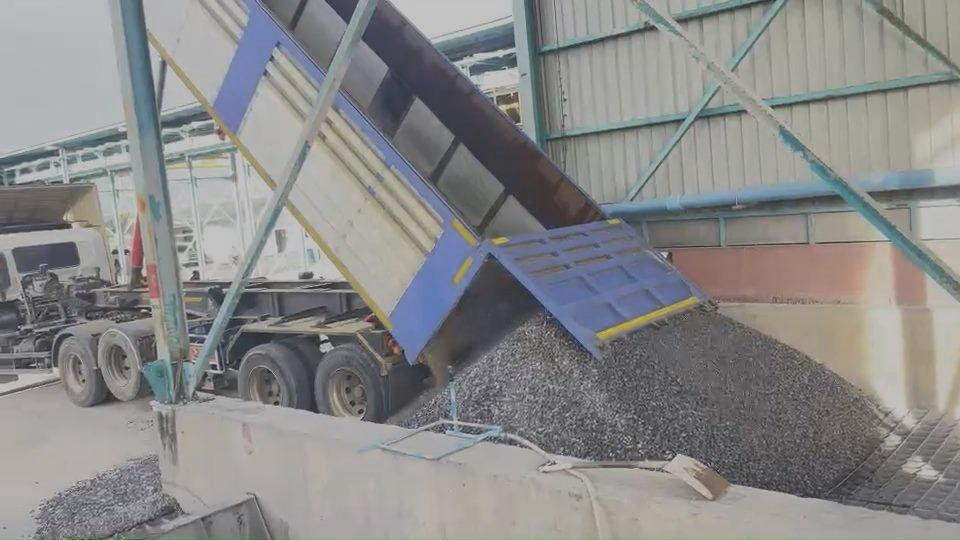gravel: (457, 311, 883, 495), (35, 455, 178, 537), (396, 391, 448, 426)
